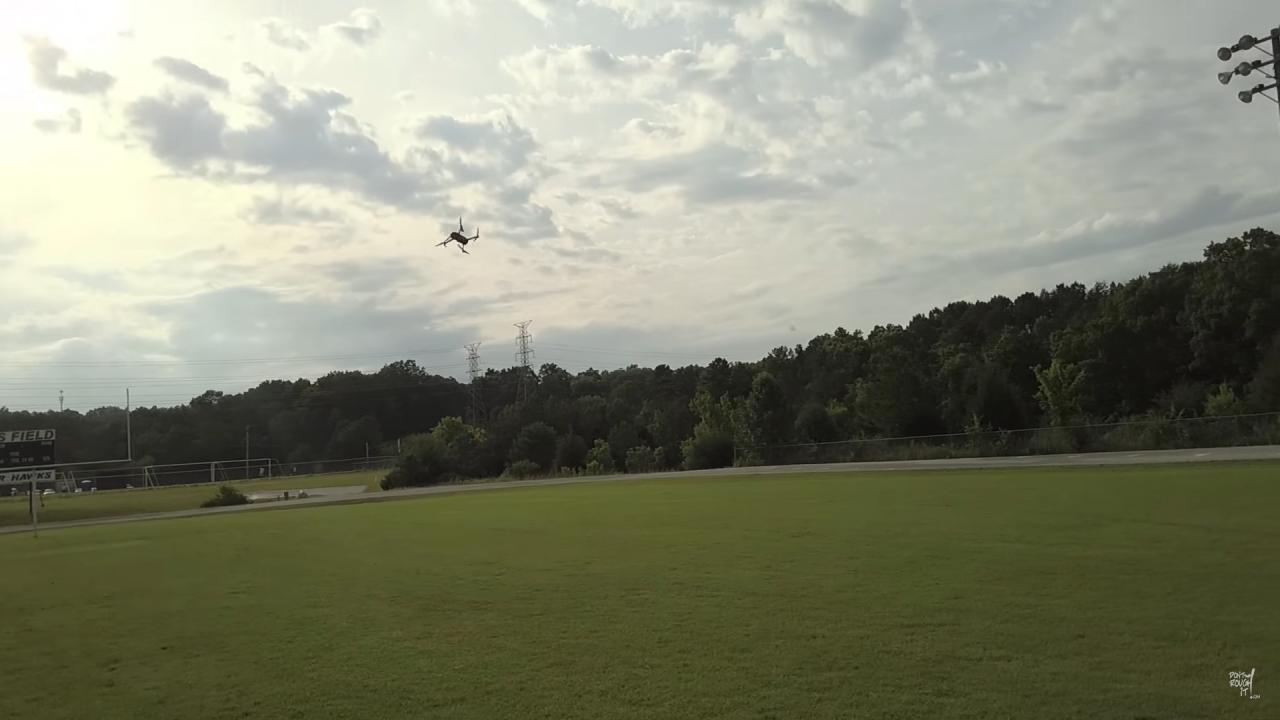Drone: (425, 210, 491, 265)
